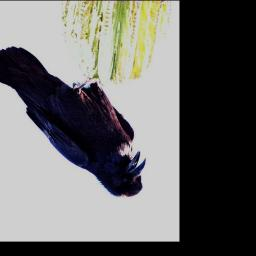Crow: (0, 46, 146, 198)
